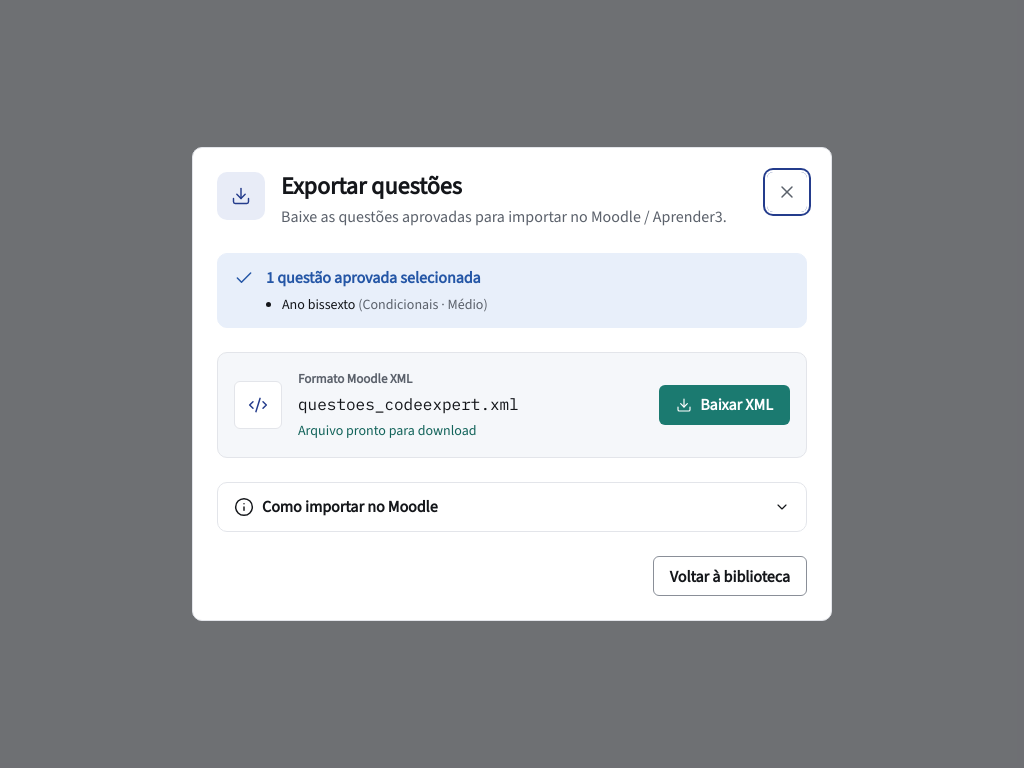
Test: ExportDialog › avisa quando o servidor recusa a exportação
The image size is (1024, 768).
Click the button "Baixar XML". click: click(725, 405)
box: 659,385 -> 790,425
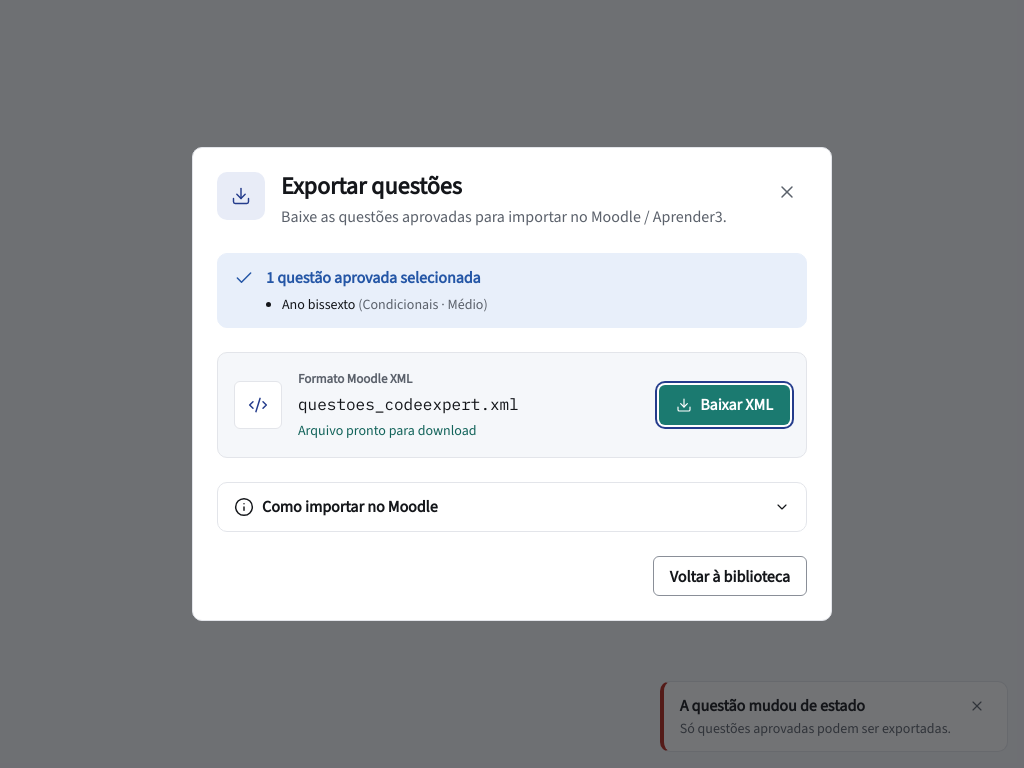
Result: the text "Só questões aprovadas podem ser exportadas." is shown at 680,718 -> 951,739
